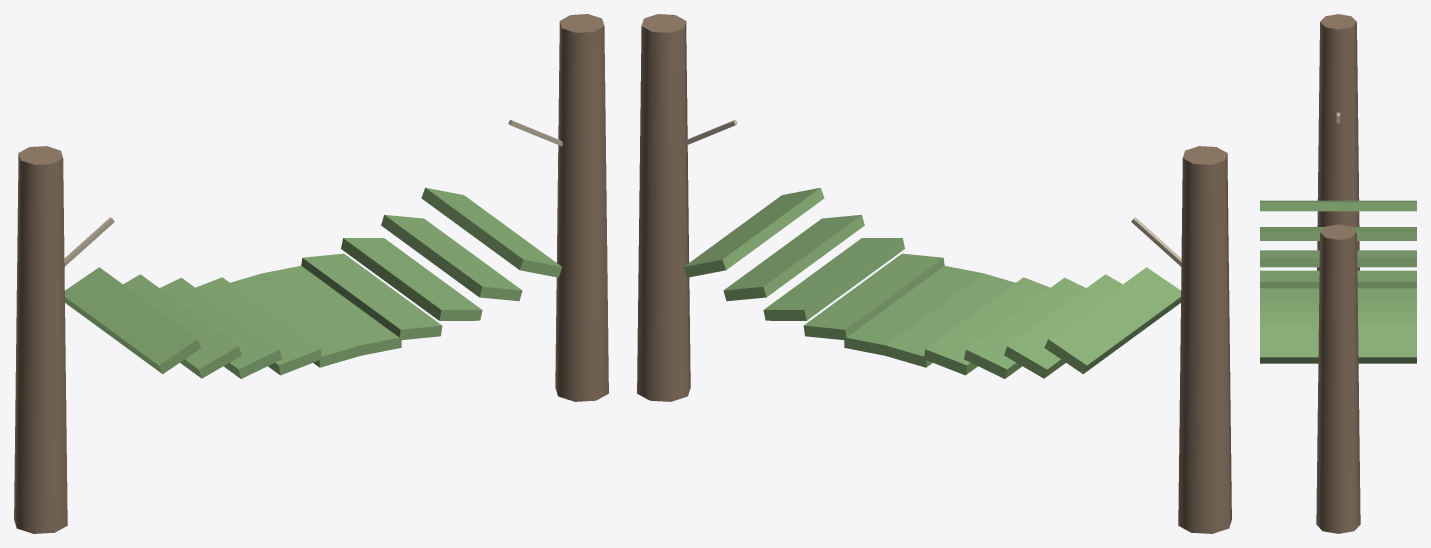
Rendered from build_hammock.glb.
3 views of the same model, side by side, from view 1: azimuth 30°, elevation 25°; view 2: azimuth 150°, elevation 25°; view 3: azimuth 270°, elevation 25° (orthographic). The views are drawn at different scales.
Visible parts, largest first — view 1: Baked; view 2: Baked; view 3: Baked.
Part boxes in pixels (x1=…): Baked: x1=14, y1=14, x2=608, y2=533; Baked: x1=637, y1=14, x2=1231, y2=533; Baked: x1=1260, y1=14, x2=1416, y2=533.
Size of the model in its own units: 2.94 by 1.75 by 0.85.
